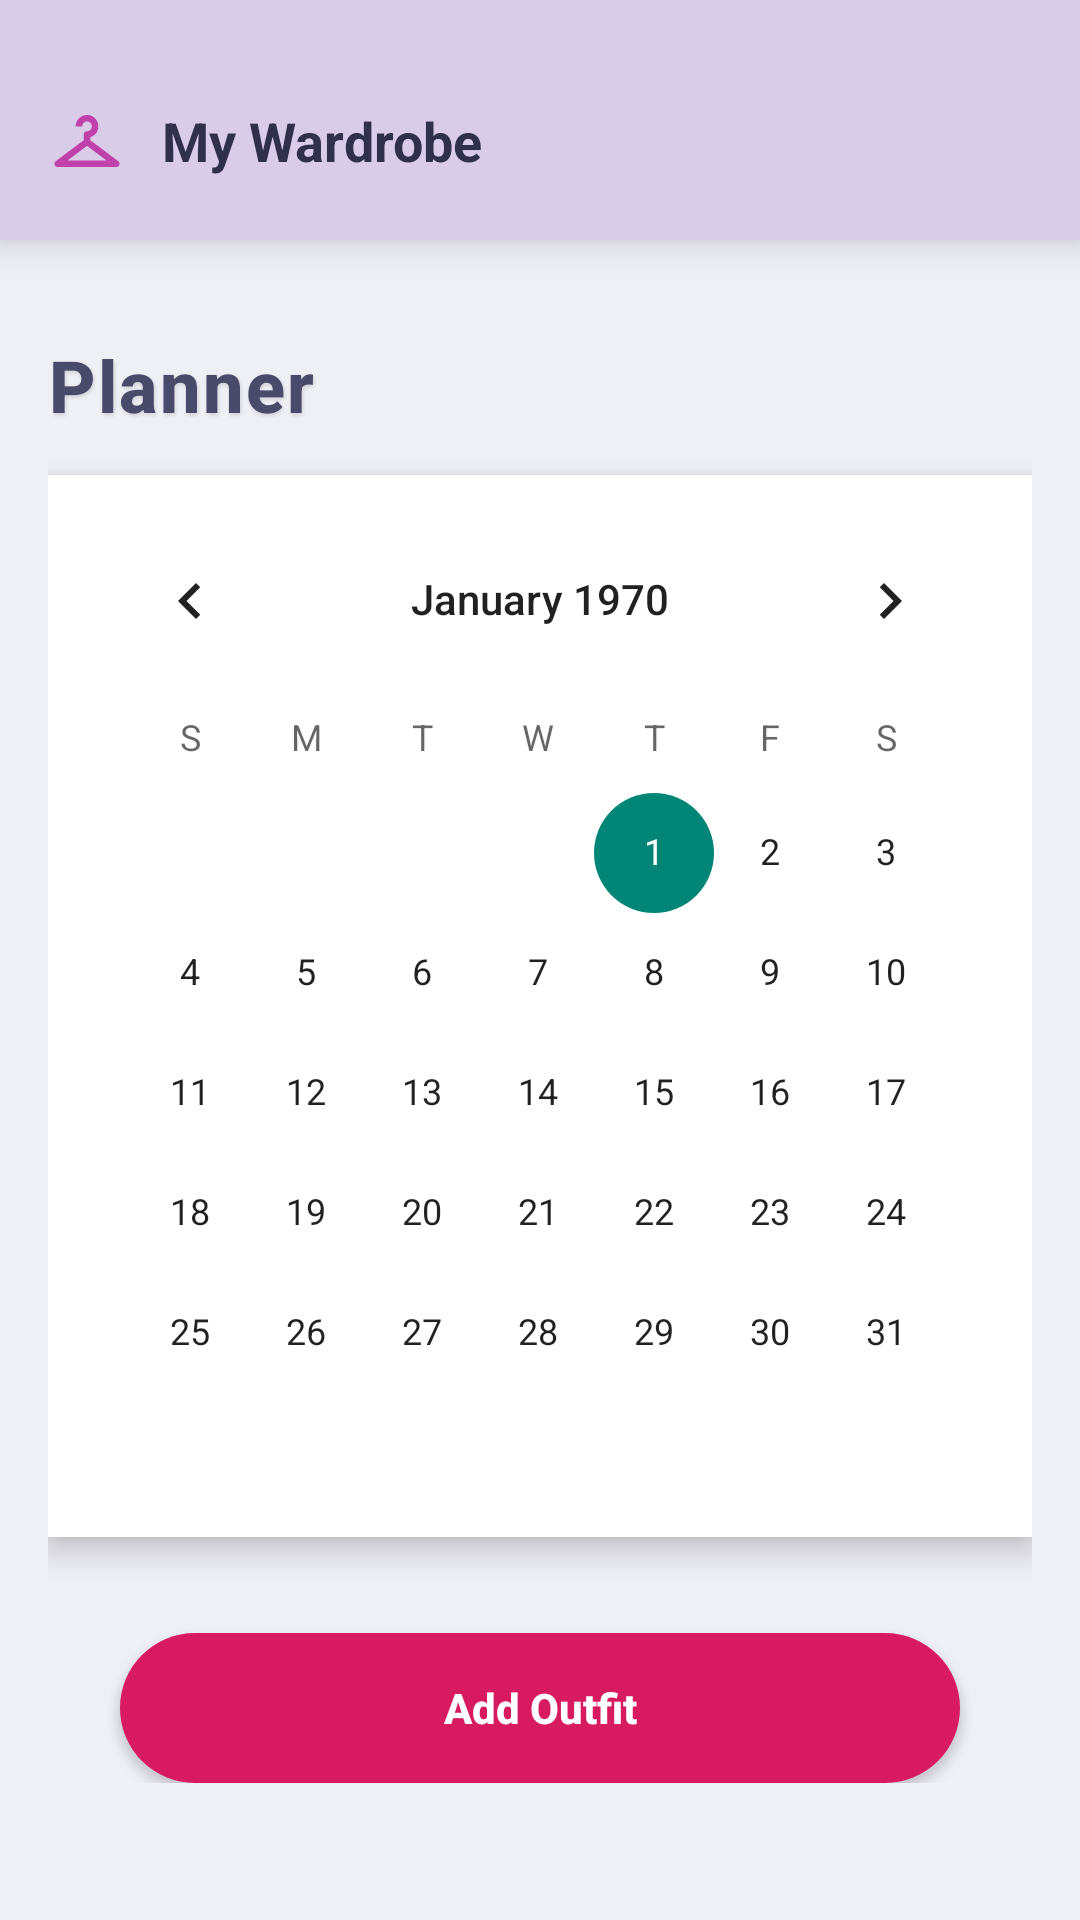

Icons on this 1080px x 1920px Android screen, each with the point to tap as (x=x, y=y):
checkroom: (x=87, y=141)
